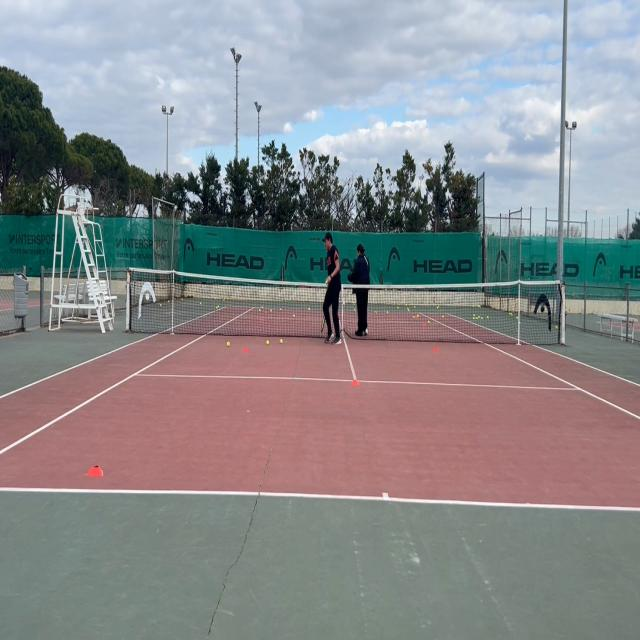ball: (226, 341, 230, 348), (266, 339, 270, 346), (280, 338, 284, 344), (292, 313, 296, 319), (555, 325, 558, 331), (515, 316, 519, 320), (223, 297, 226, 302), (386, 310, 389, 315), (480, 316, 483, 321), (486, 315, 489, 320), (308, 306, 310, 312), (199, 302, 202, 306), (215, 306, 218, 310), (217, 305, 220, 309), (413, 305, 416, 309), (375, 310, 377, 315), (413, 315, 415, 320), (428, 320, 430, 325), (473, 316, 475, 321), (167, 300, 170, 303), (258, 309, 261, 312), (279, 308, 282, 311), (160, 303, 162, 307), (261, 305, 263, 309), (270, 308, 272, 312), (354, 308, 356, 312), (353, 301, 355, 305), (406, 303, 408, 307), (408, 309, 410, 313), (417, 314, 419, 318), (442, 315, 444, 319), (438, 305, 440, 309), (473, 313, 475, 317), (472, 304, 474, 308), (479, 304, 481, 308), (478, 315, 480, 319), (509, 312, 511, 316), (511, 312, 513, 316), (181, 298, 183, 301), (397, 306, 399, 309), (398, 303, 400, 306), (407, 307, 409, 310), (436, 306, 438, 309), (478, 305, 480, 308), (476, 317, 478, 320)
